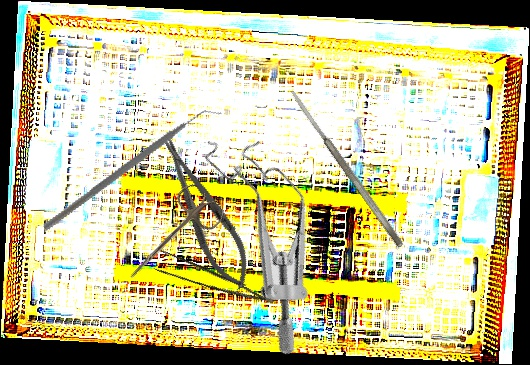Chopper: (41, 66, 224, 276)
Iris Scissors: (114, 179, 228, 297)
Needle Holder: (149, 128, 262, 297)
Spatula Surgical: (287, 86, 406, 250)
Speculum: (142, 112, 381, 360)
Tissue Forceps: (150, 245, 274, 323)
